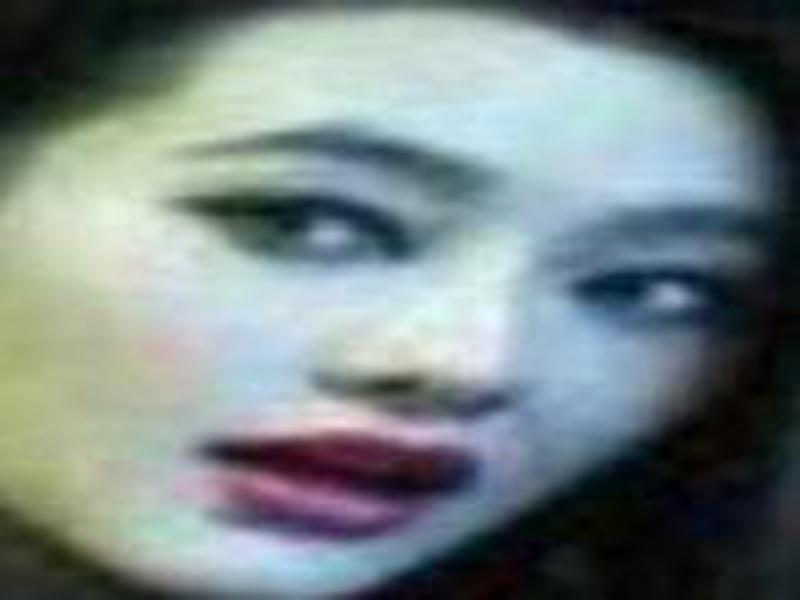without_mask: (12, 10, 768, 582)
